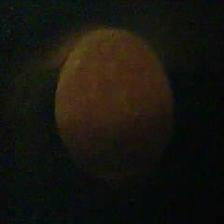fertile: (49, 24, 180, 177)
